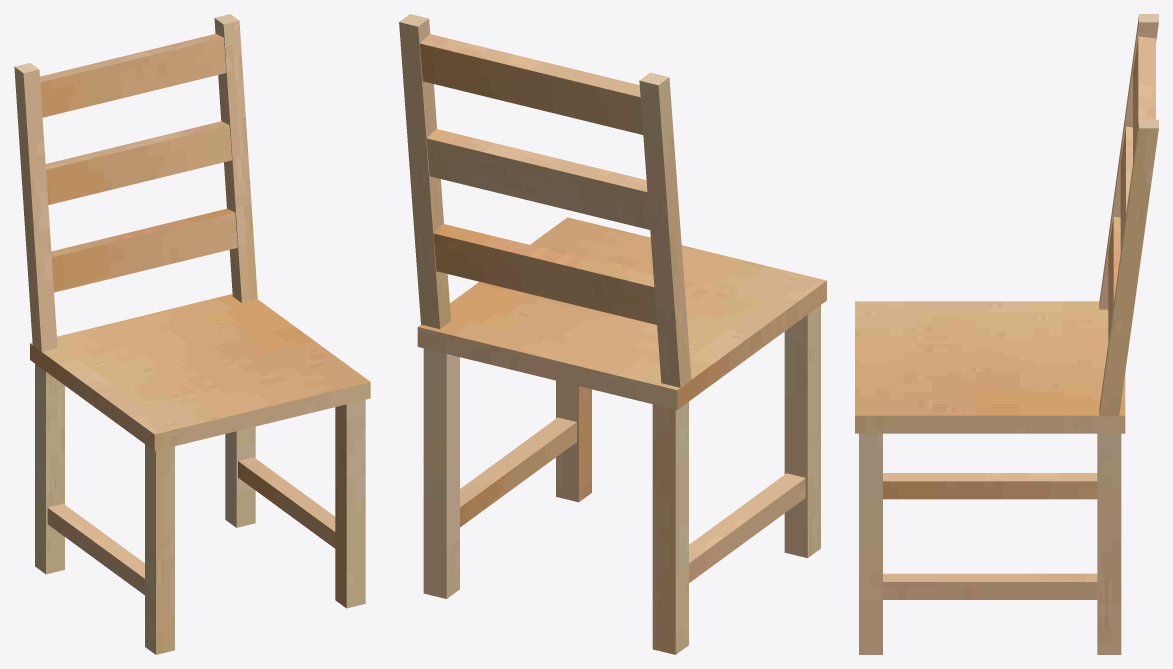
The model's file is chair.fbx.
3 renders of one model, left to right at view 1: azimuth 30°, elevation 25°; view 2: azimuth 150°, elevation 25°; view 3: azimuth 270°, elevation 25°, orthographic. The views are drawn at different scales.
Visible parts, largest first — view 1: Chair; view 2: Chair; view 3: Chair.
Boxes of the visible parts, x1,y1,x2,y2 form: Chair: (14,14,370,654); Chair: (399,14,826,654); Chair: (855,14,1158,654).
Size of the model in its own units: 272 by 587 by 306.
1 material, 1 textured.
